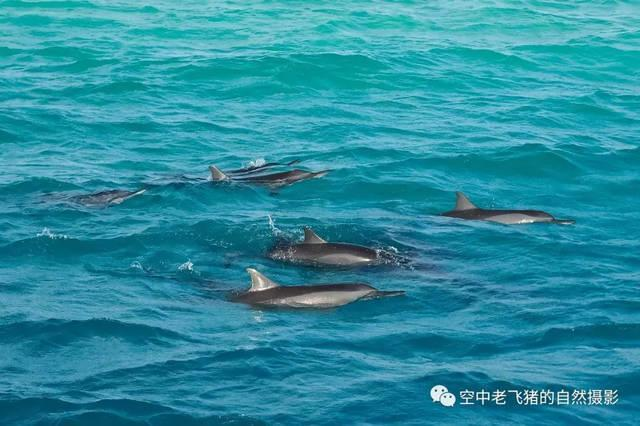fish: (228, 267, 406, 312), (435, 190, 581, 235), (261, 224, 398, 269)
